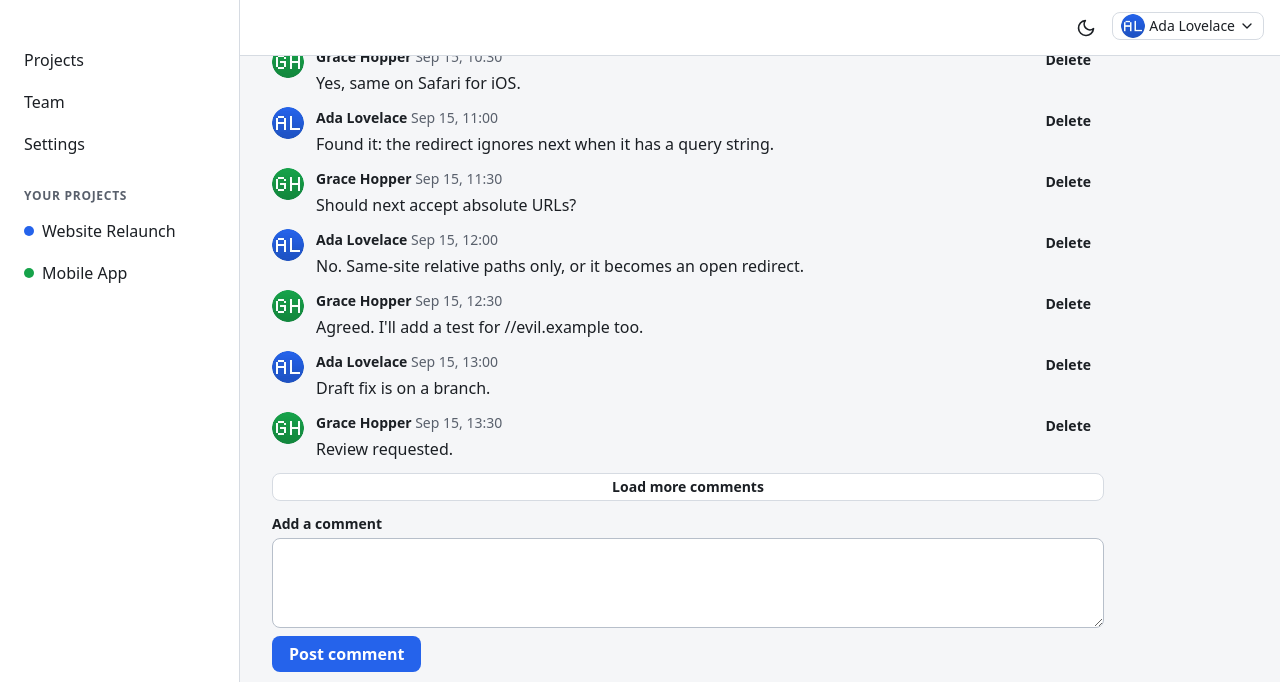
loads comments 10 at a time, oldest first
(page scrolled)
Click the button "Load more comments" at (688, 487), box [272,473,1104,501]
(page scrolled)
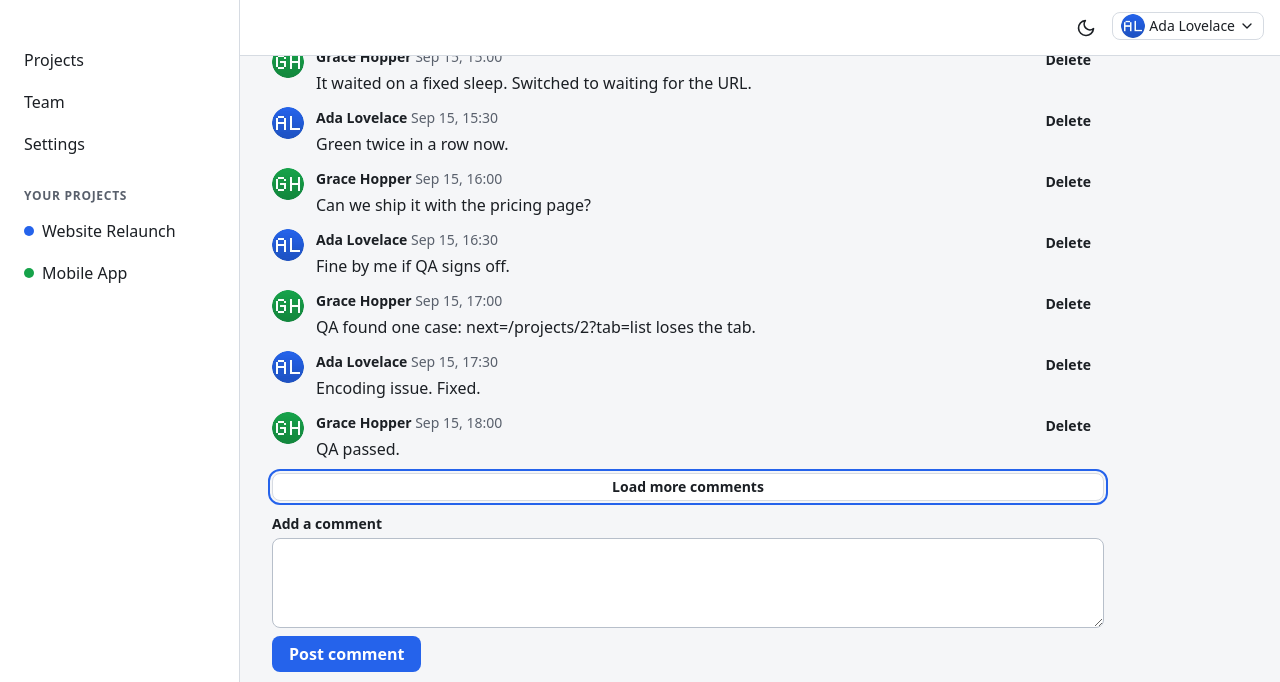
Click the button "Load more comments" at (688, 487), box [272,473,1104,501]
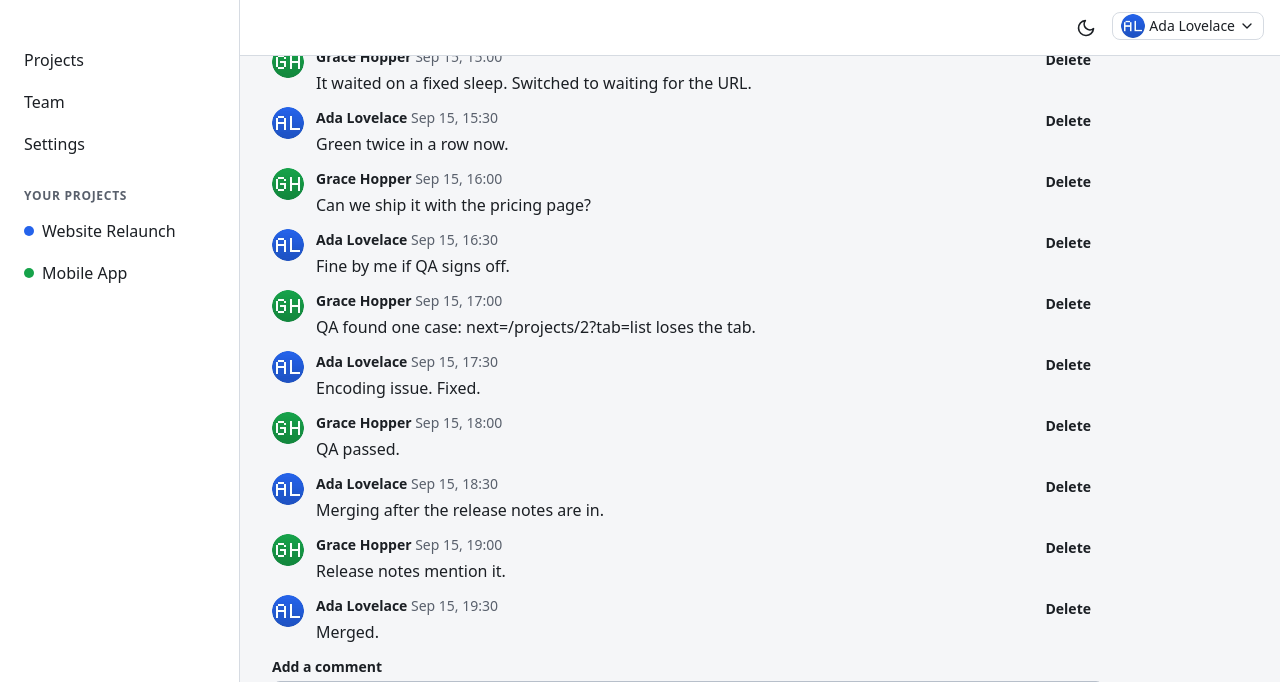
expect the button "Load more comments" is gone: met
expect the list item "Ada Lovelace Sep 15, 19:30 Merged. Delete" is shown: met, box [272,595,1104,644]
